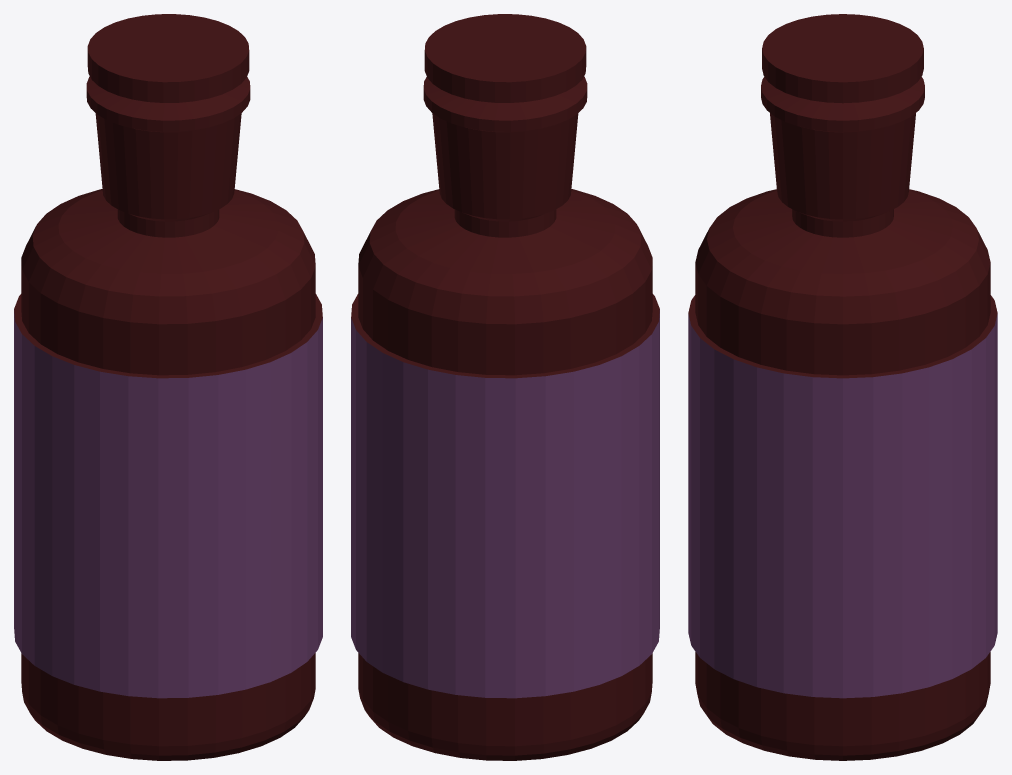
File: Bottle.fbx
The picture shows the model from 3 angles, left to right: view 1: azimuth 30°, elevation 25°; view 2: azimuth 150°, elevation 25°; view 3: azimuth 270°, elevation 25°; orthographic projection.
Visible parts, largest first — view 1: Cylinder; view 2: Cylinder; view 3: Cylinder.
Part boxes in pixels (x1,y1,x2,y2): Cylinder: (14, 14, 322, 760); Cylinder: (351, 14, 659, 760); Cylinder: (688, 14, 997, 760).
Bounding box in the file's own units: 210 × 491 × 210.
